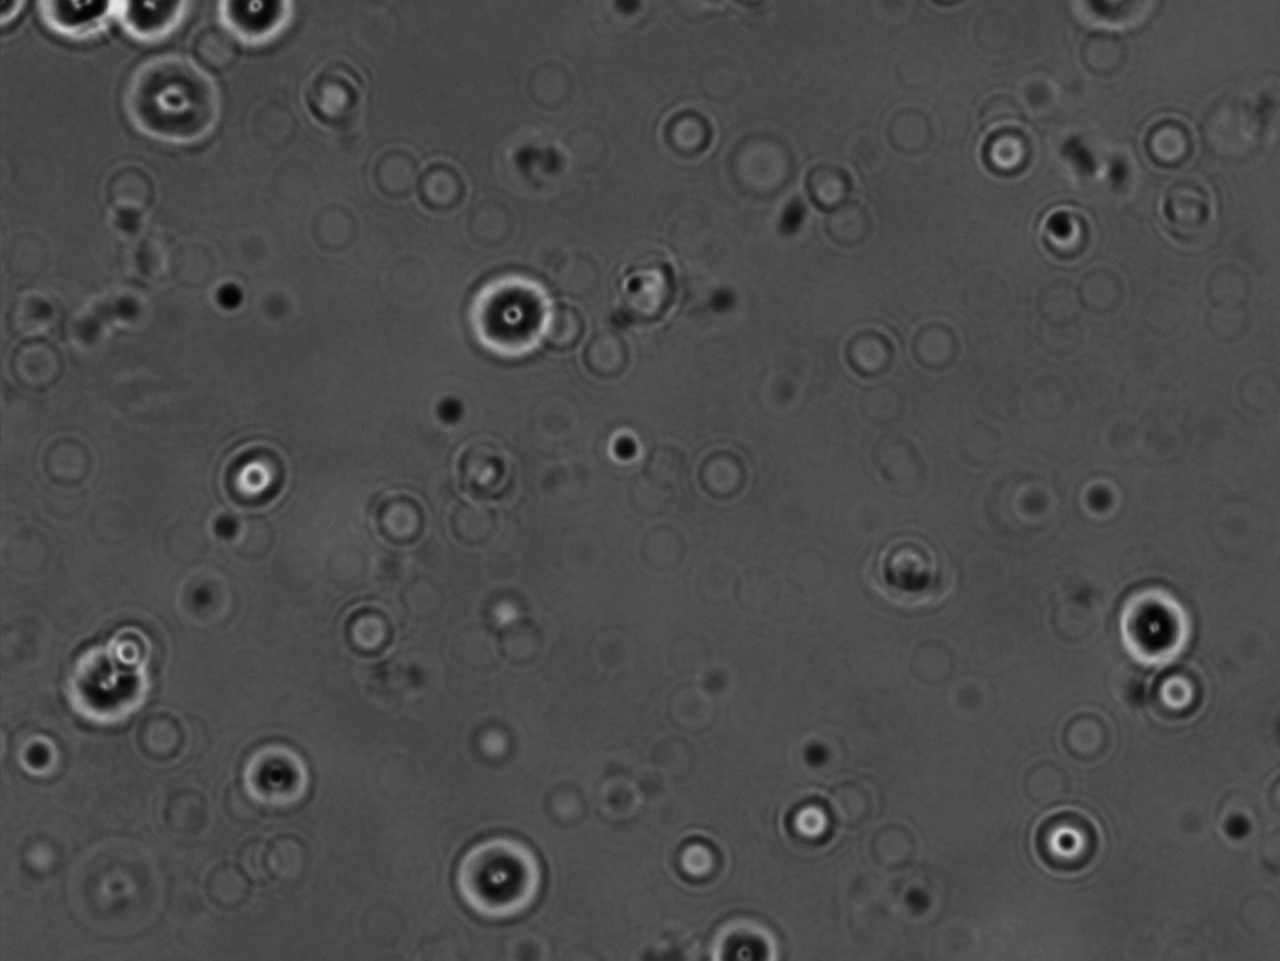depth:-8: (437, 826, 563, 933), (1106, 570, 1213, 692), (462, 265, 575, 371), (55, 633, 173, 728)
